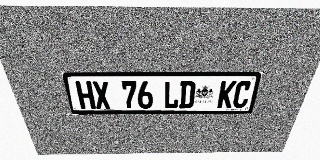6: (137, 81, 153, 109)
7: (120, 81, 138, 109)
C: (231, 81, 253, 108)
D: (179, 81, 196, 108)
H: (75, 81, 96, 109)
K: (217, 81, 237, 108)
L: (164, 81, 180, 109)
X: (92, 81, 111, 109)
